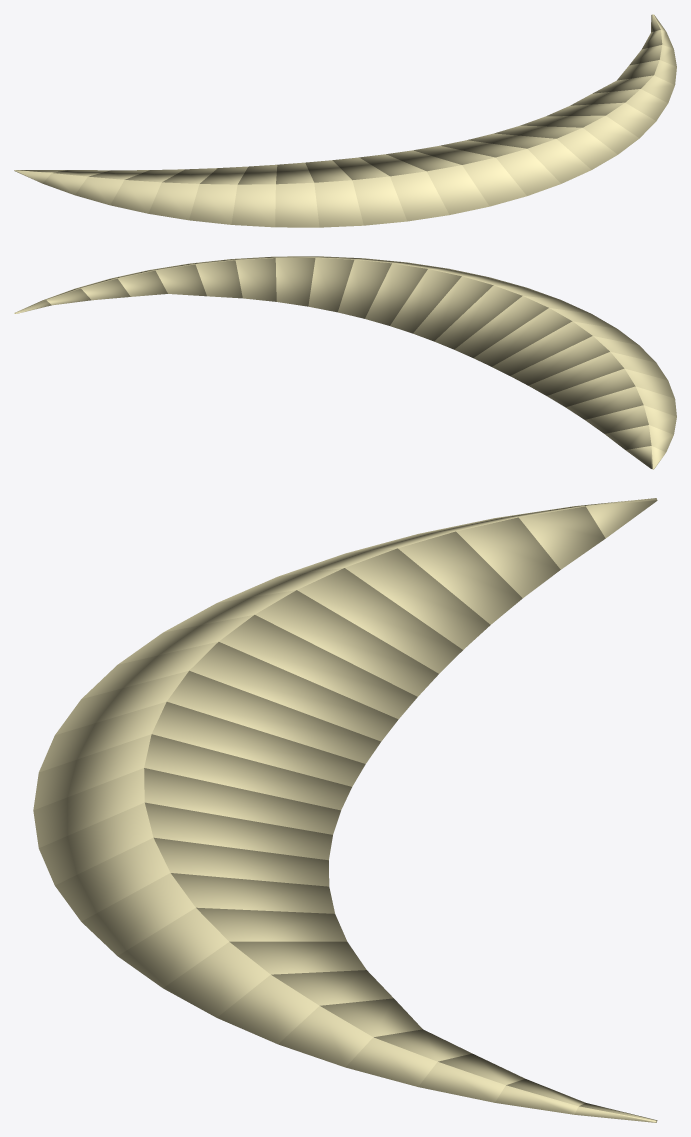
Rendered from SM_Vfx_WpnSlashCrescent.fbx.
The picture shows the model from 3 angles, top to bottom: view 1: azimuth 30°, elevation 25°; view 2: azimuth 150°, elevation 25°; view 3: azimuth 270°, elevation 25°; orthographic projection. The views are drawn at different scales.
Visible parts, largest first — view 1: SM_Vfx_WpnSlashCrescent; view 2: SM_Vfx_WpnSlashCrescent; view 3: SM_Vfx_WpnSlashCrescent.
Part boxes in pixels (box(x1,y1,x2,y2)): SM_Vfx_WpnSlashCrescent: box(14, 14, 676, 227); SM_Vfx_WpnSlashCrescent: box(14, 256, 676, 469); SM_Vfx_WpnSlashCrescent: box(33, 498, 657, 1122).
Bounding box in the file's own units: 3.34 × 0.22 × 1.41.
